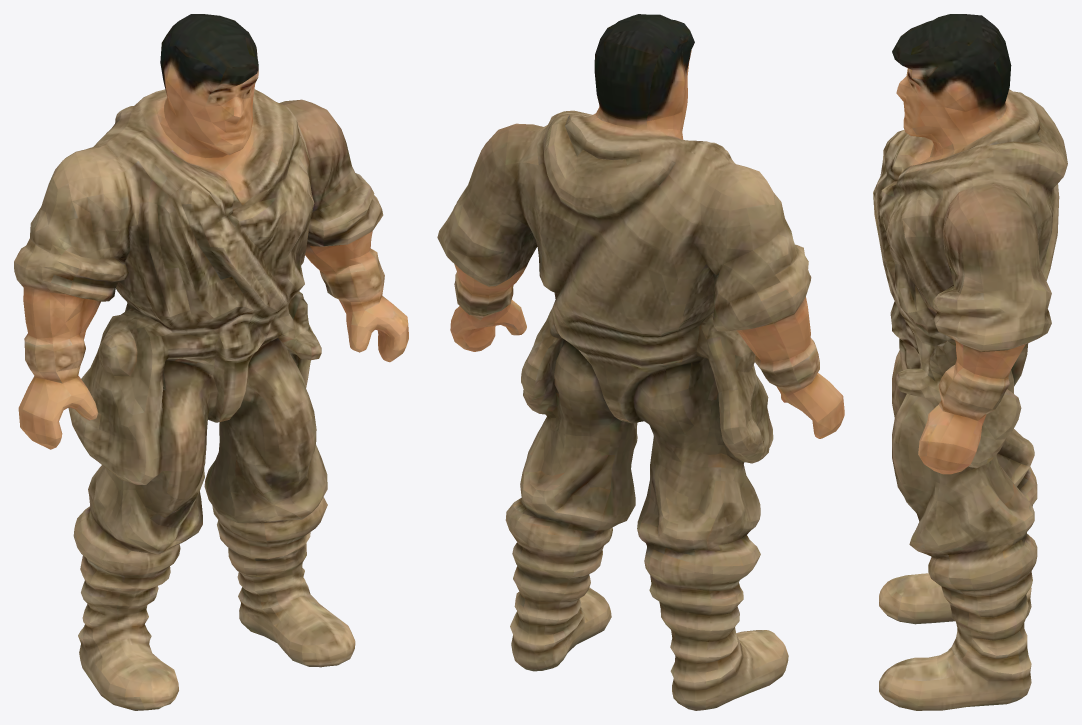
Rendered from villager_desert.glb.
3 renders of one model, left to right at view 1: azimuth 30°, elevation 25°; view 2: azimuth 150°, elevation 25°; view 3: azimuth 270°, elevation 25°, orthographic.
Bounding box in the file's own units: 1.17 × 1.91 × 0.5245.
1 material, 1 textured.
